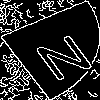N: (25, 25, 98, 82)
